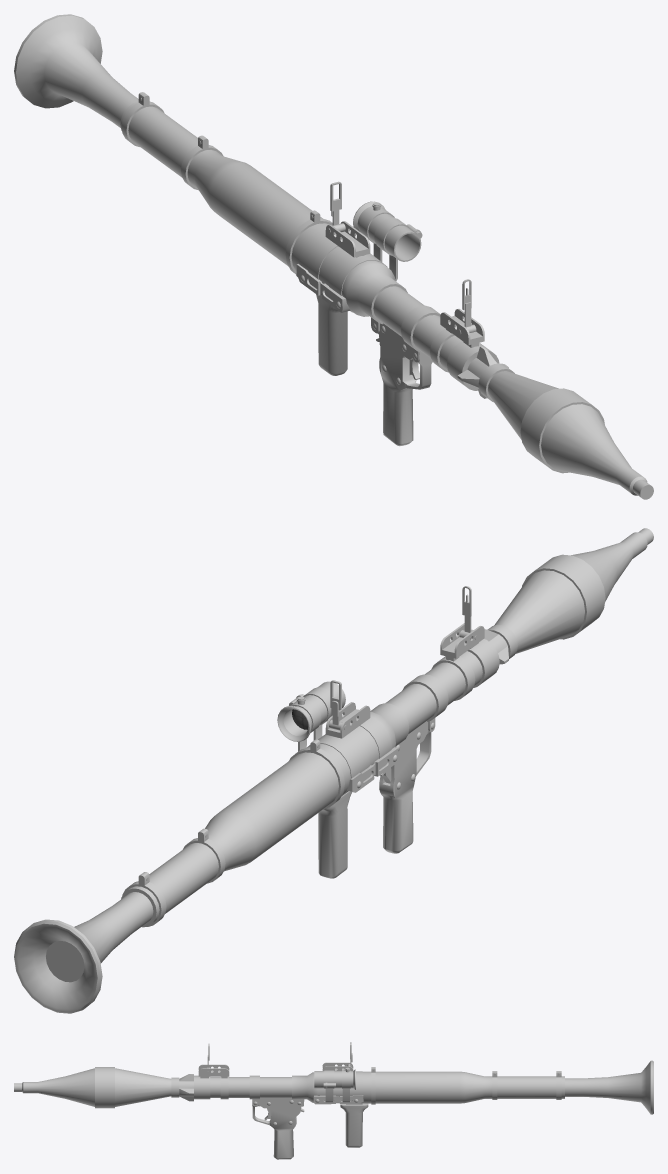
The model's file is rpg8.fbx.
The picture shows the model from 3 angles, top to bottom: view 1: azimuth 30°, elevation 25°; view 2: azimuth 150°, elevation 25°; view 3: azimuth 270°, elevation 25°; orthographic projection. The views are drawn at different scales.
Visible parts, largest first — view 1: base, rocket; view 2: base, rocket; view 3: base, rocket.
Part boxes in pixels (bbox=[...]): base: bbox=[14, 14, 499, 446]; rocket: bbox=[457, 346, 653, 499]; base: bbox=[14, 586, 499, 1013]; rocket: bbox=[484, 528, 653, 664]; base: bbox=[194, 1042, 653, 1159]; rocket: bbox=[14, 1067, 193, 1108].
Bounding box in the file's own units: 15.14 × 29.18 × 147.
